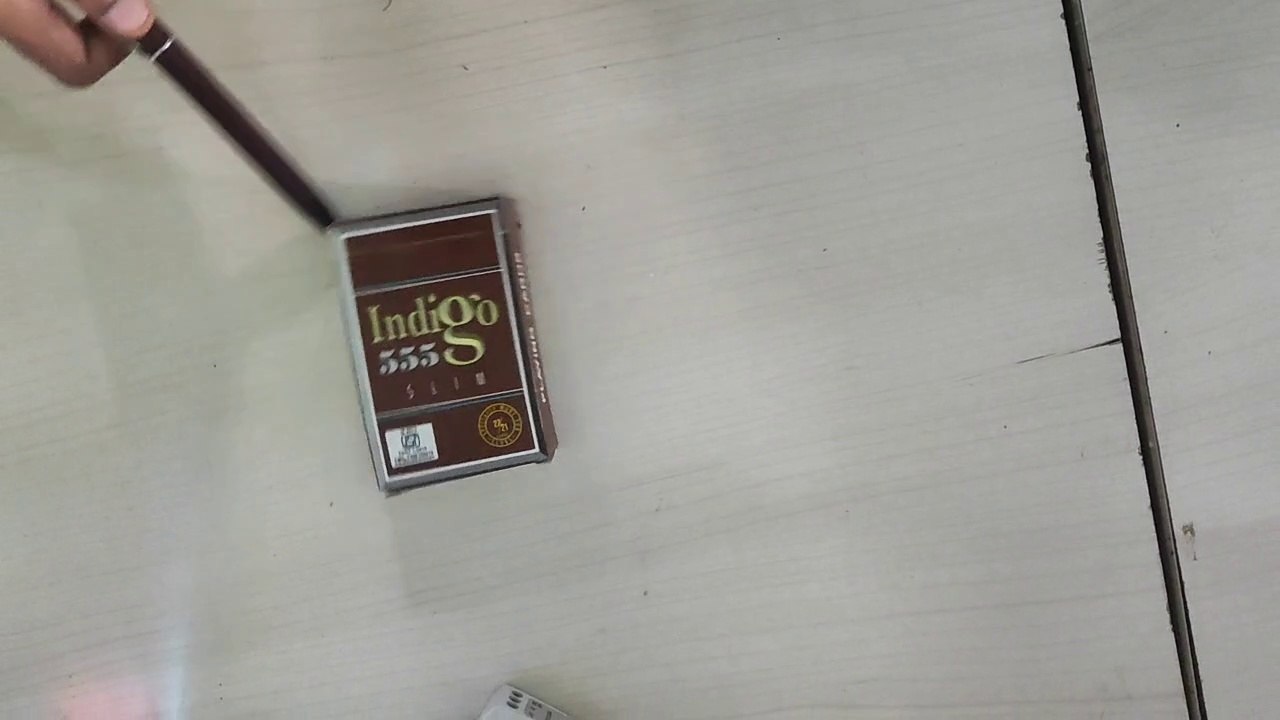BEX: (345, 210, 537, 479)
